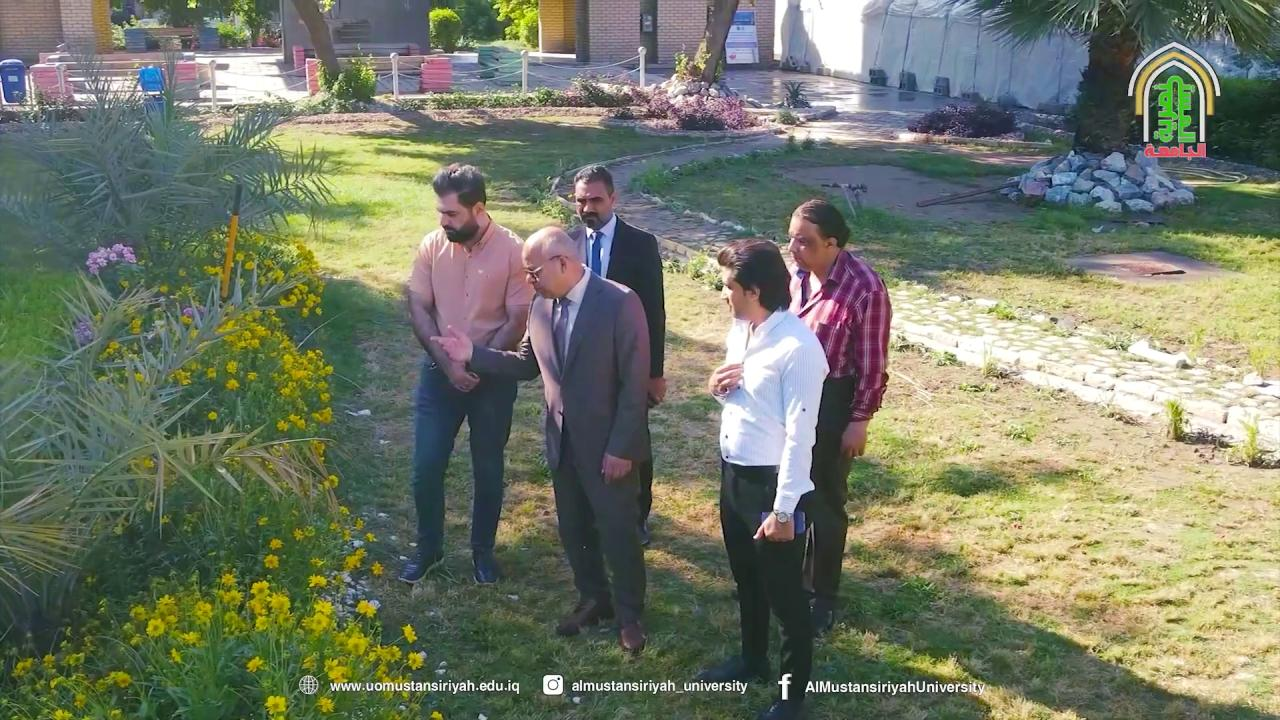person: (430, 224, 654, 655), (713, 197, 892, 640), (692, 236, 831, 718), (397, 162, 537, 586), (562, 164, 667, 549)
tree: (1, 46, 350, 655), (1, 48, 343, 295), (968, 0, 1278, 151), (966, 0, 1278, 65), (290, 0, 341, 87), (691, 0, 739, 86), (490, 0, 539, 50), (427, 6, 463, 53)
